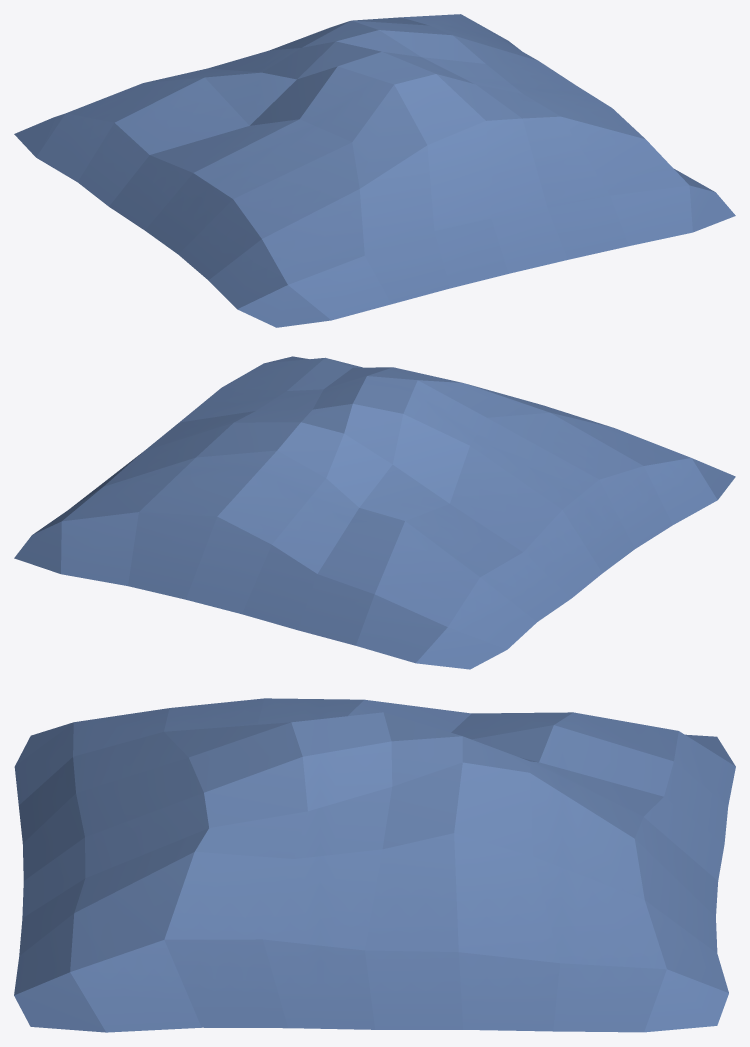
The model's file is SM_SnowPile2.fbx.
3 renders of one model, top to bottom at view 1: azimuth 30°, elevation 25°; view 2: azimuth 150°, elevation 25°; view 3: azimuth 270°, elevation 25°, orthographic. The views are drawn at different scales.
Visible parts, largest first — view 1: SM_SnowPile2; view 2: SM_SnowPile2; view 3: SM_SnowPile2.
Part boxes in pixels (box(x1,y1,x2,y2)): SM_SnowPile2: box(14, 14, 735, 327); SM_SnowPile2: box(14, 356, 735, 669); SM_SnowPile2: box(14, 698, 735, 1032).
Bounding box in the file's own units: 422 × 98.12 × 424.
